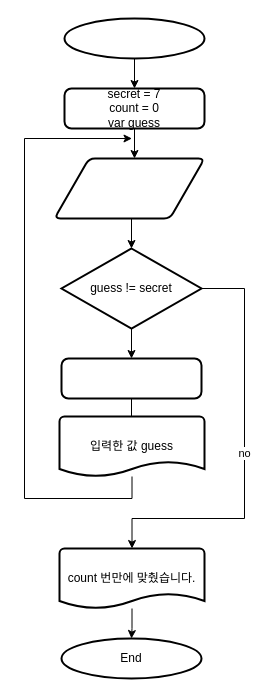
This 270x696 diagram has some shape labels left out. Here are the shapes that lost their labels. From the top down, the box of each, then its label:
(63, 17, 205, 59): Start
(53, 157, 205, 219): 1-10 입력하세요
(60, 357, 202, 399): count++
